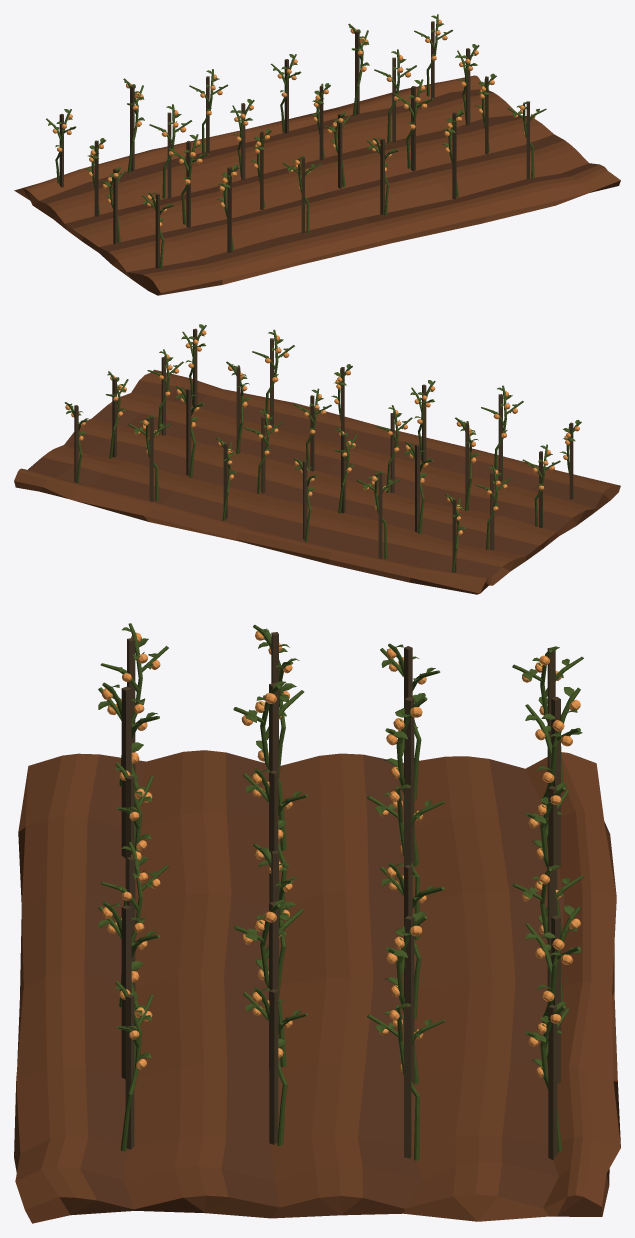
File: LemonHarvest_1.fbx
3 renders of one model, top to bottom at view 1: azimuth 30°, elevation 25°; view 2: azimuth 150°, elevation 25°; view 3: azimuth 270°, elevation 25°, orthographic. The views are drawn at different scales.
Visible parts, largest first — view 1: LemonHarvest_1; view 2: LemonHarvest_1; view 3: LemonHarvest_1.
Part boxes in pixels (bbox=[...]): LemonHarvest_1: bbox=[14, 14, 620, 295]; LemonHarvest_1: bbox=[14, 324, 620, 594]; LemonHarvest_1: bbox=[14, 623, 620, 1223].
Bounding box in the file's own units: 706 × 139 × 402.
